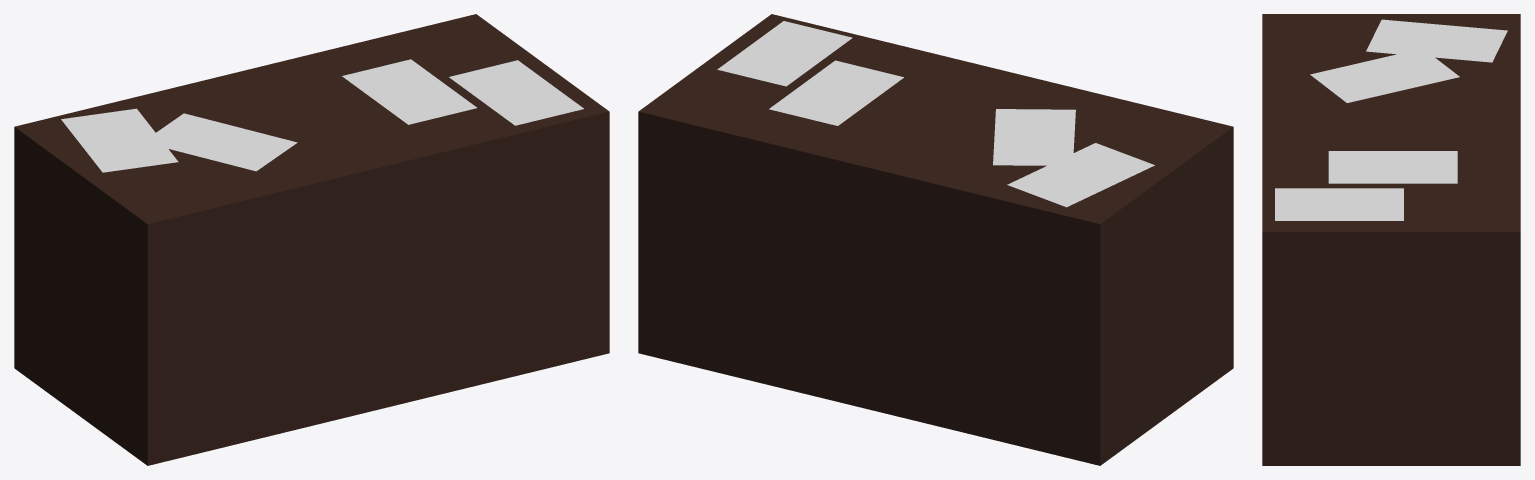
Rendered from table.fbx.
3 views of the same model, side by side, from view 1: azimuth 30°, elevation 25°; view 2: azimuth 150°, elevation 25°; view 3: azimuth 270°, elevation 25° (orthographic). The views are drawn at different scales.
Parts seen in each view (by area): view 1: Cube, Plane, Plane.002, Plane.003, Plane.004; view 2: Cube, Plane.004, Plane.003, Plane.002, Plane; view 3: Cube, Plane, Plane.002, Plane.003, Plane.004.
Boxes of the visible parts, x1,y1,x2,y2 form: Cube: (14,14,609,465); Plane: (142,113,297,171); Plane.002: (342,59,476,124); Plane.003: (449,60,583,125); Plane.004: (61,108,178,172); Cube: (638,14,1233,465); Plane.004: (1007,143,1154,207); Plane.003: (717,21,852,86); Plane.002: (769,60,903,125); Plane: (993,109,1075,165); Cube: (1262,14,1520,465); Plane: (1310,48,1459,102); Plane.002: (1328,151,1457,183); Plane.003: (1275,188,1403,220); Plane.004: (1366,19,1507,62).
Size of the model in its own units: 200 by 101 by 100.
